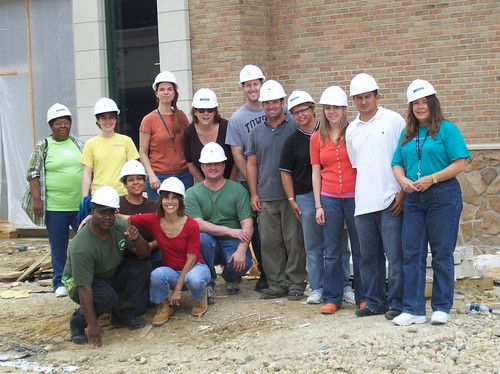person hardhat: (395, 78, 461, 321), (345, 72, 404, 325), (61, 186, 149, 346), (23, 102, 93, 295), (248, 79, 305, 300), (312, 83, 366, 315), (134, 176, 212, 324), (185, 143, 255, 303), (281, 91, 330, 306), (224, 65, 269, 287), (79, 99, 144, 213), (137, 70, 196, 188), (188, 84, 244, 191), (108, 158, 156, 227)
